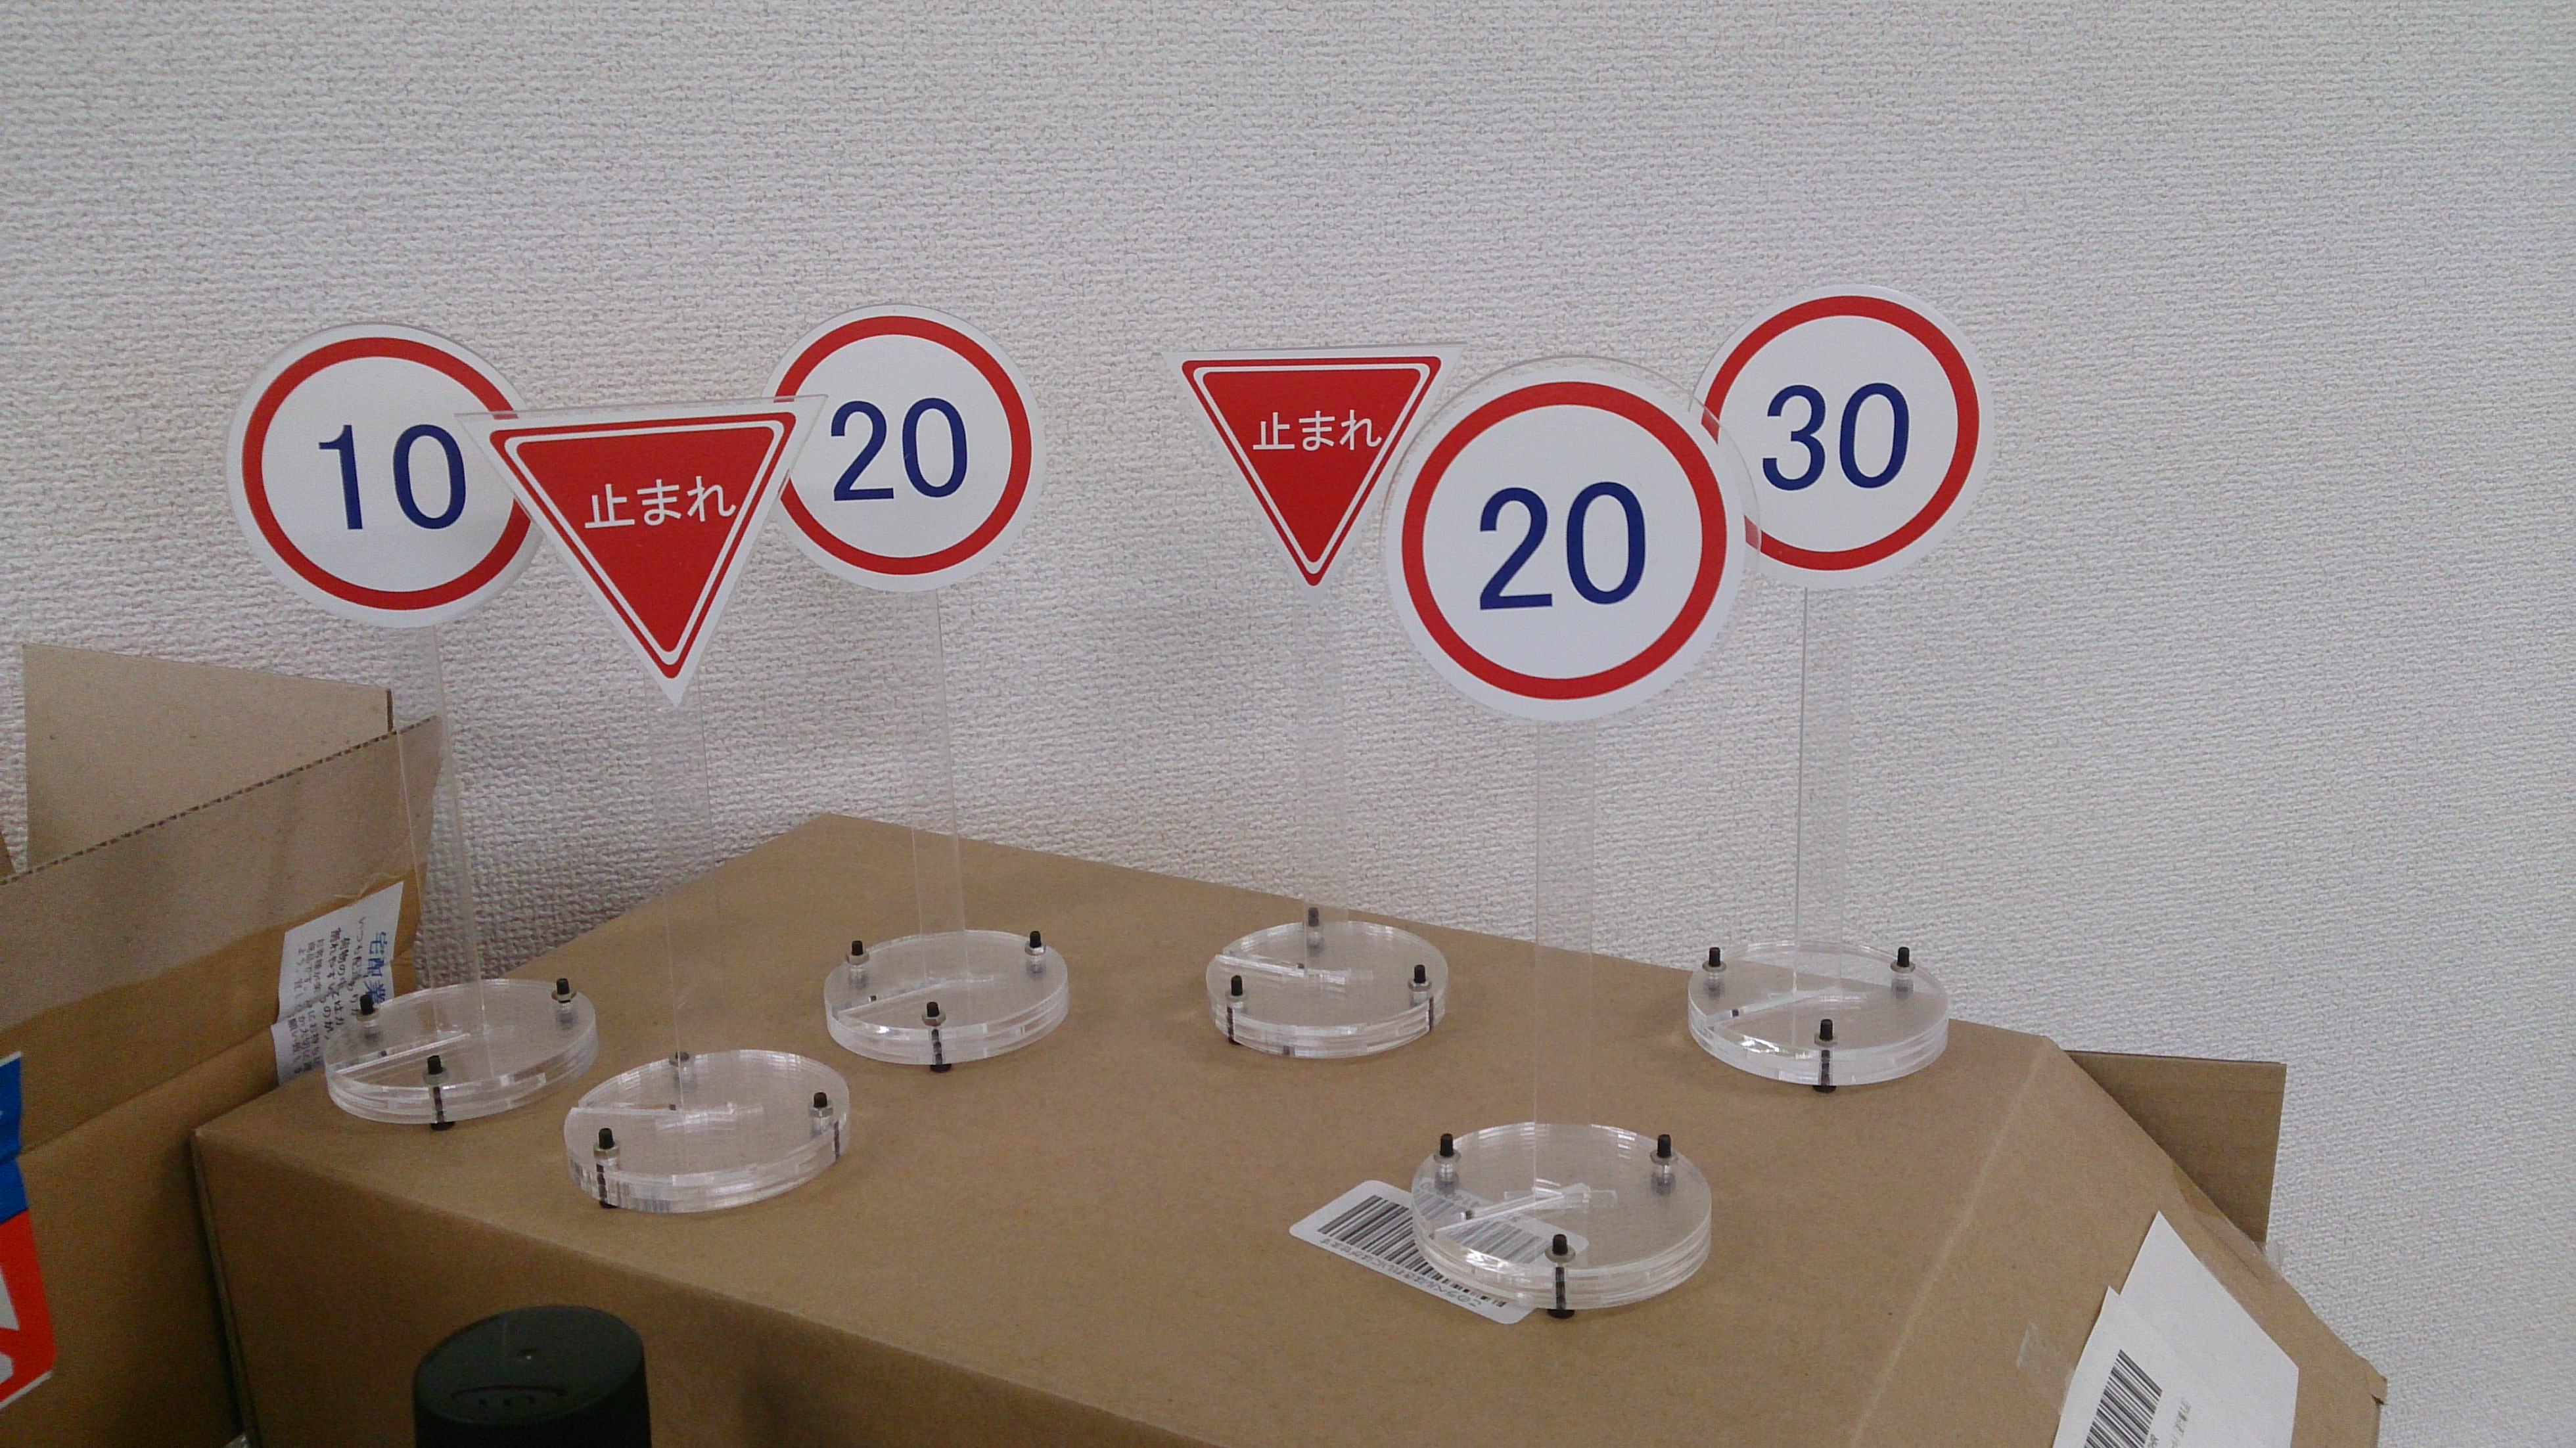speed_10: (223, 322, 547, 626)
speed_20: (1385, 359, 1739, 716), (757, 302, 1046, 589)
speed_30: (1695, 290, 1987, 589)
stop: (472, 396, 817, 704), (1161, 343, 1468, 594)
